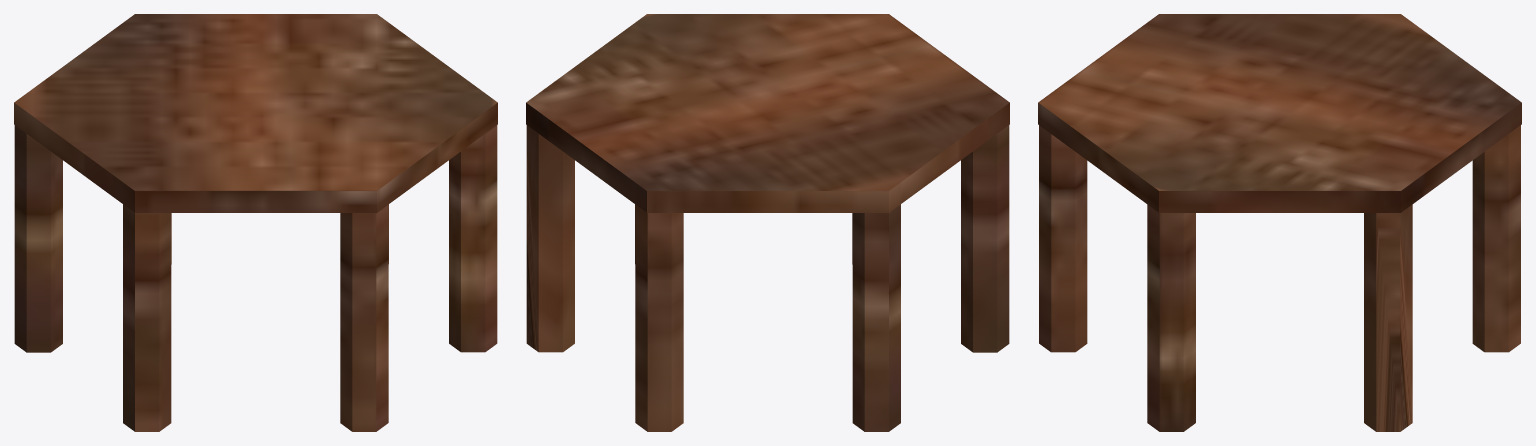
The model's file is hexagon.fbx.
The picture shows the model from 3 angles, left to right: view 1: azimuth 30°, elevation 25°; view 2: azimuth 150°, elevation 25°; view 3: azimuth 270°, elevation 25°; orthographic projection.
Parts seen in each view (by area): view 1: Cylinder; view 2: Cylinder; view 3: Cylinder.
Boxes of the visible parts, x1,y1,x2,y2 form: Cylinder: [14, 14, 497, 431]; Cylinder: [526, 14, 1009, 431]; Cylinder: [1038, 14, 1521, 431].
Bounding box in the file's own units: 866 × 550 × 1000.
